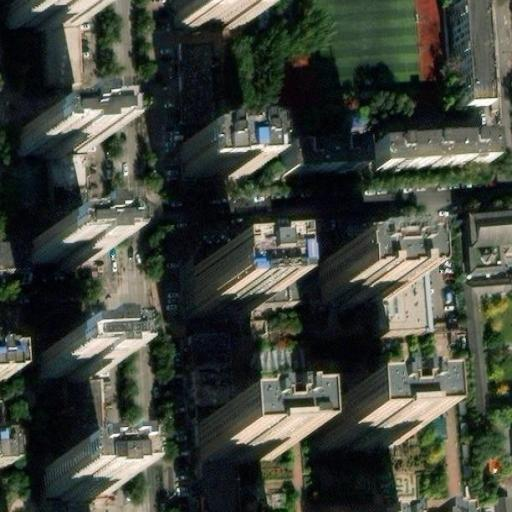building: (372, 145, 484, 179), (319, 415, 403, 458), (190, 274, 252, 330), (456, 26, 488, 130), (194, 426, 273, 467), (312, 272, 385, 316), (36, 28, 77, 98), (461, 291, 484, 414), (276, 151, 357, 184), (180, 138, 244, 176), (461, 227, 512, 268), (8, 0, 80, 27), (16, 133, 84, 161), (39, 478, 103, 506), (31, 237, 91, 266), (35, 352, 96, 378)
